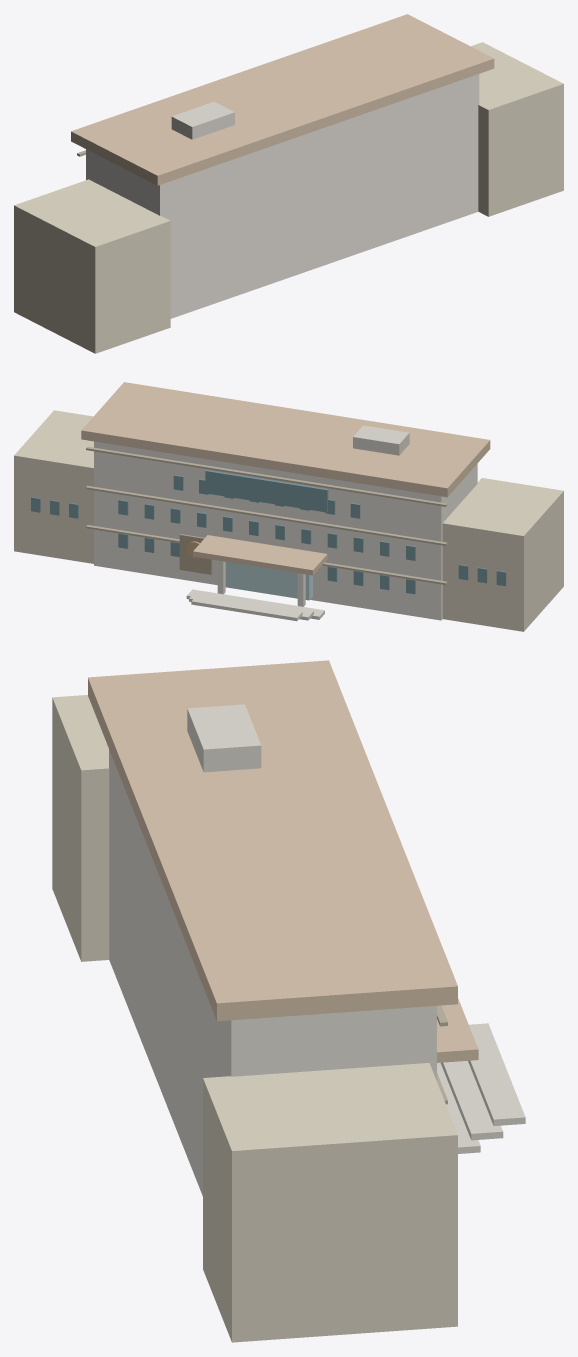
File: janggong-overview.glb
3 views of the same model, one above another, from view 1: azimuth 30°, elevation 25°; view 2: azimuth 150°, elevation 25°; view 3: azimuth 270°, elevation 25° (orthographic). The views are drawn at different scales.
Bounding box in the file's own units: 58.82 × 17.41 × 25.05.
